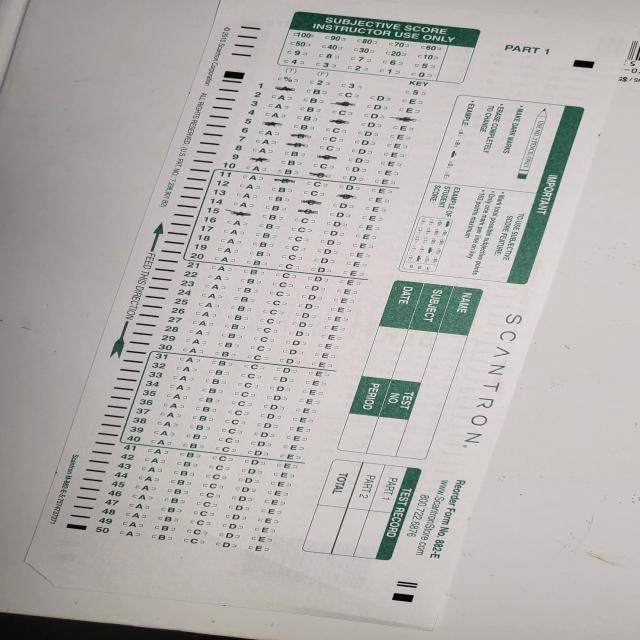scantron: (24, 2, 638, 632)
